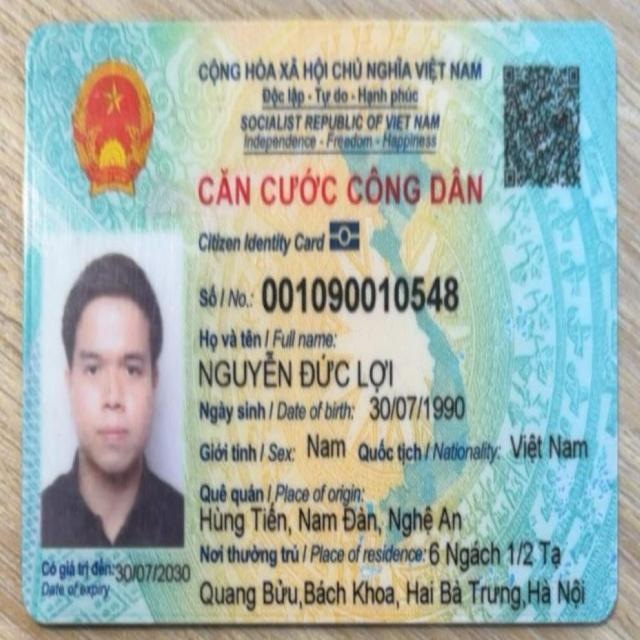current_place: (196, 570, 589, 613), (425, 533, 566, 574)
dob: (369, 392, 468, 422)
expire_date: (114, 556, 191, 588)
gender: (300, 426, 349, 469)
id: (260, 270, 463, 317)
name: (197, 349, 397, 396)
nationality: (509, 422, 591, 469)
origin_place: (197, 501, 465, 541)
qr: (500, 55, 584, 188)
